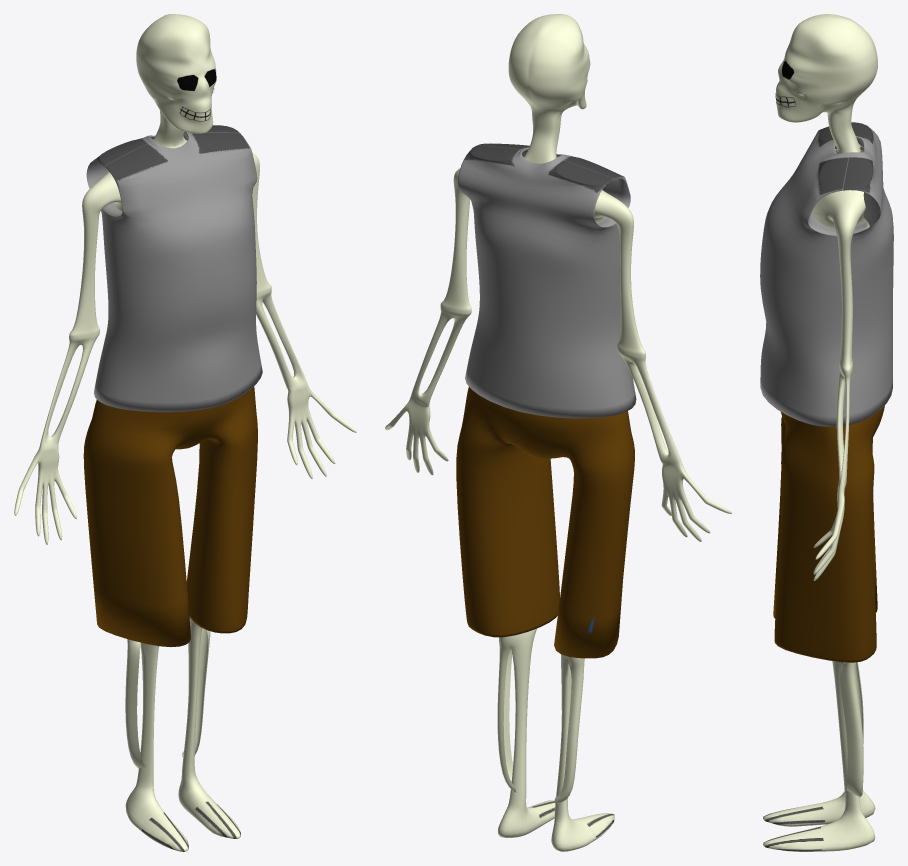
Rendered from Skeleton.fbx.
3 views of the same model, side by side, from view 1: azimuth 30°, elevation 25°; view 2: azimuth 150°, elevation 25°; view 3: azimuth 270°, elevation 25° (orthographic).
Parts seen in each view (by area): view 1: Skeleton.002; view 2: Skeleton.002; view 3: Skeleton.002.
Part boxes in pixels (x1,y1,x2,y2): Skeleton.002: (14, 14, 356, 851); Skeleton.002: (385, 14, 731, 851); Skeleton.002: (760, 14, 893, 851).
Bounding box in the file's own units: 342 × 769 × 114.
Materials: 1 (1 with a texture image).
